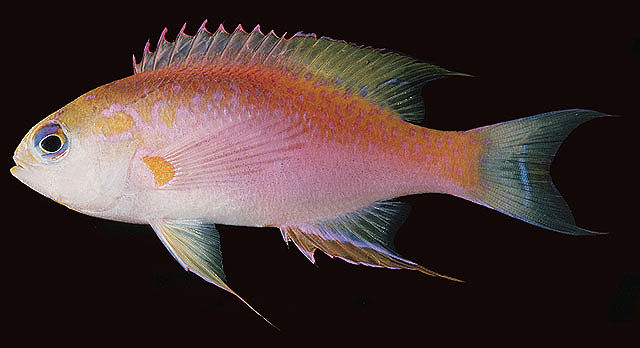fish: (10, 20, 616, 329)
